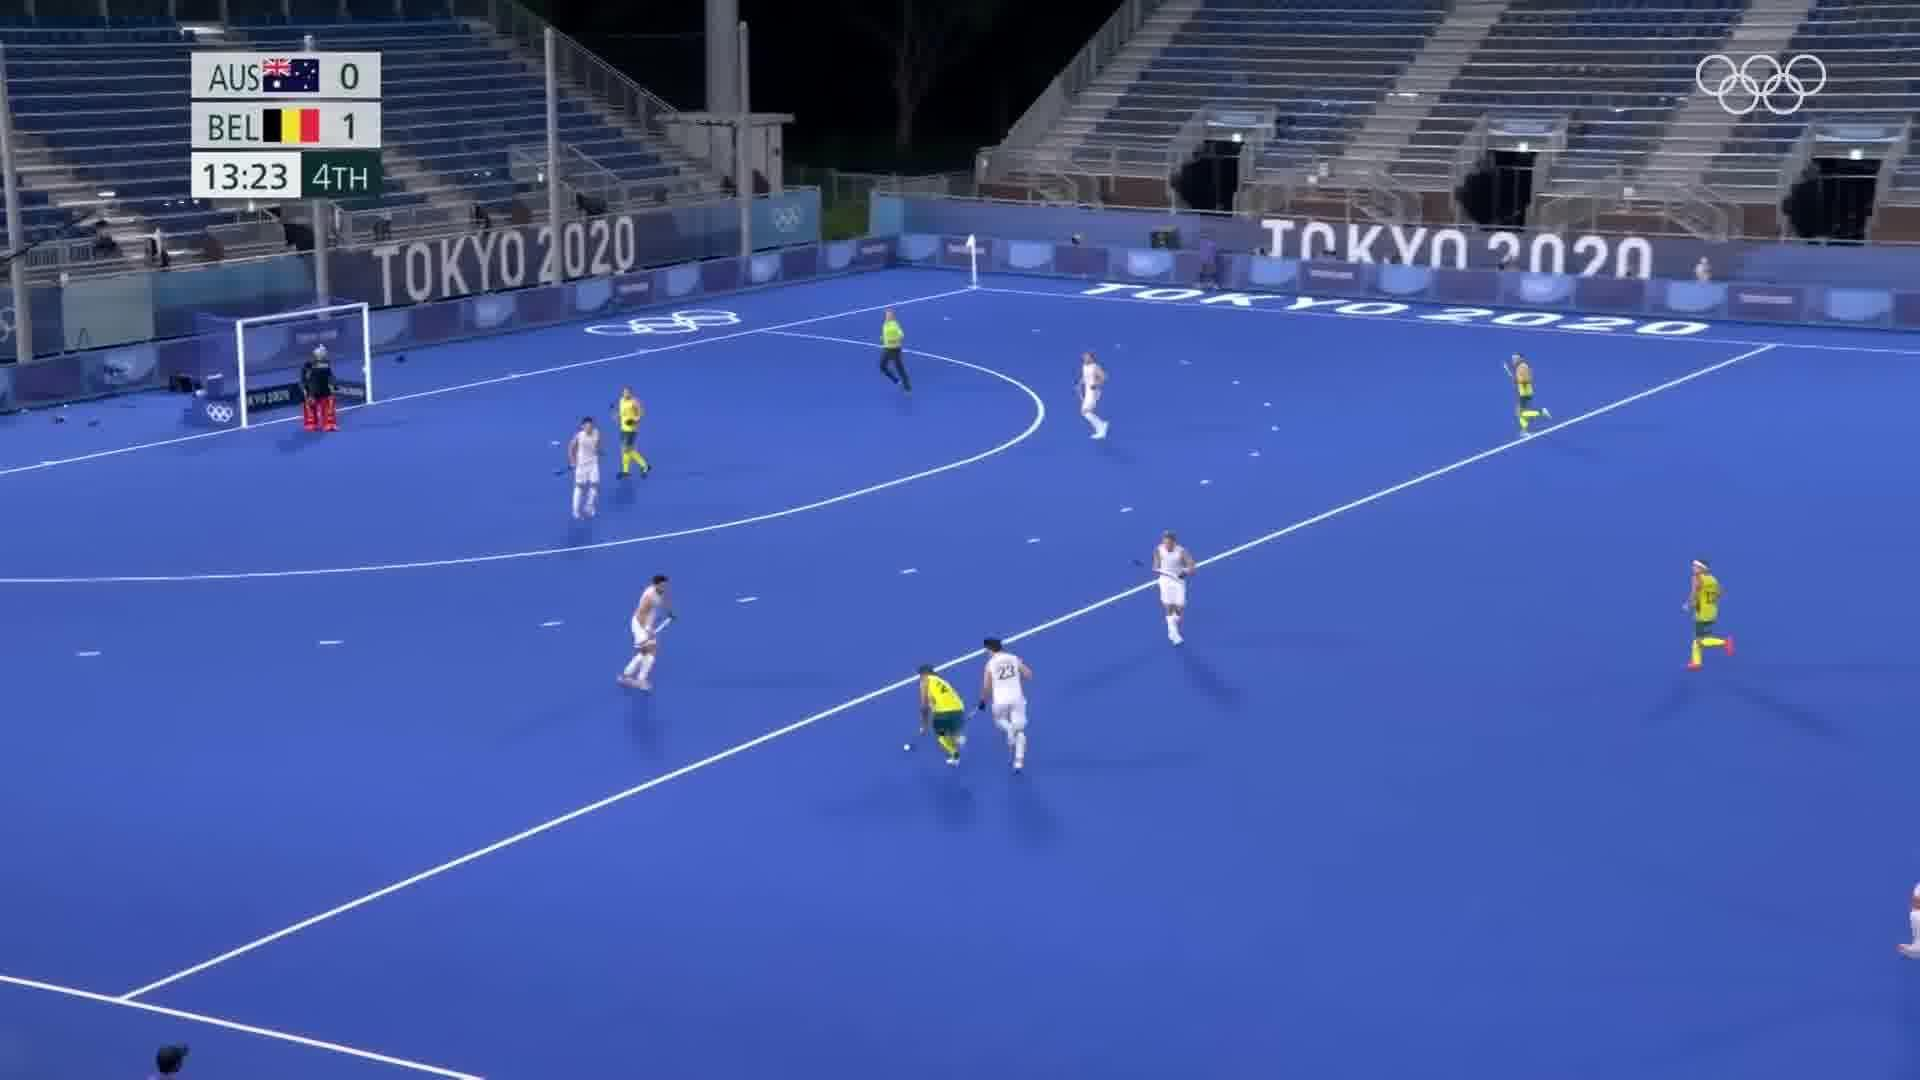ball: (899, 738, 913, 760)
